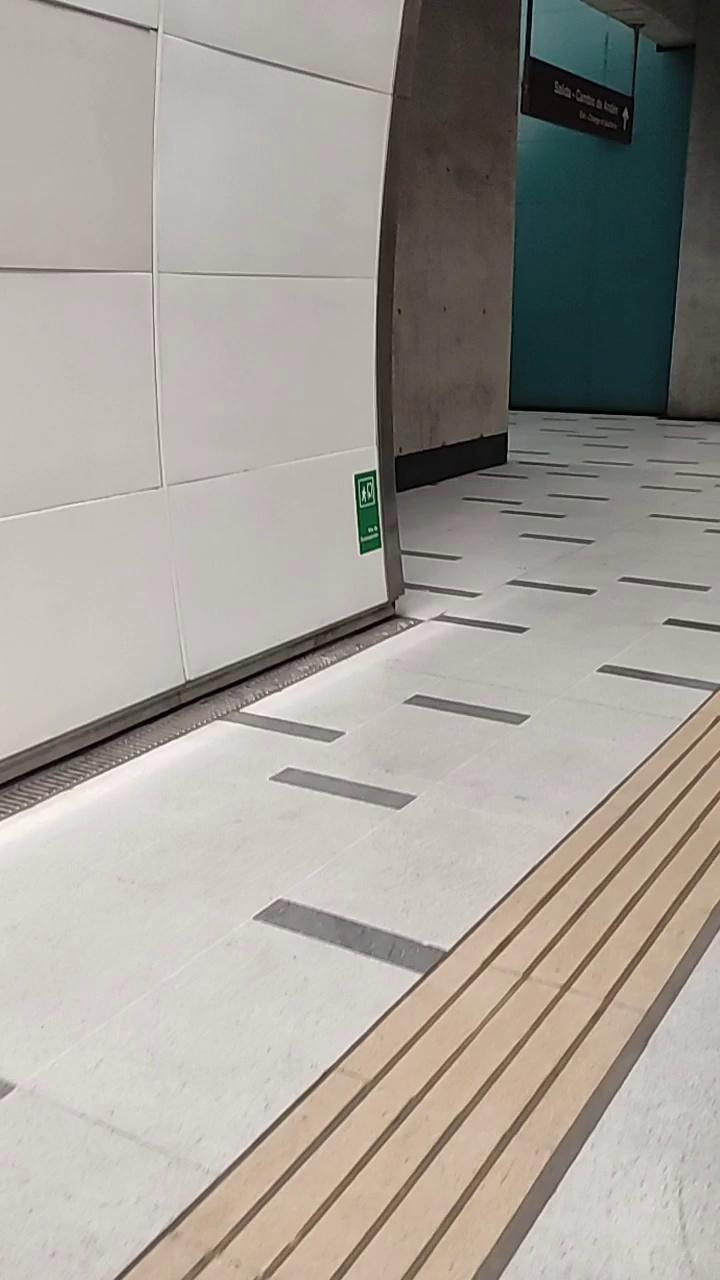up arrow: (618, 106, 636, 133)
